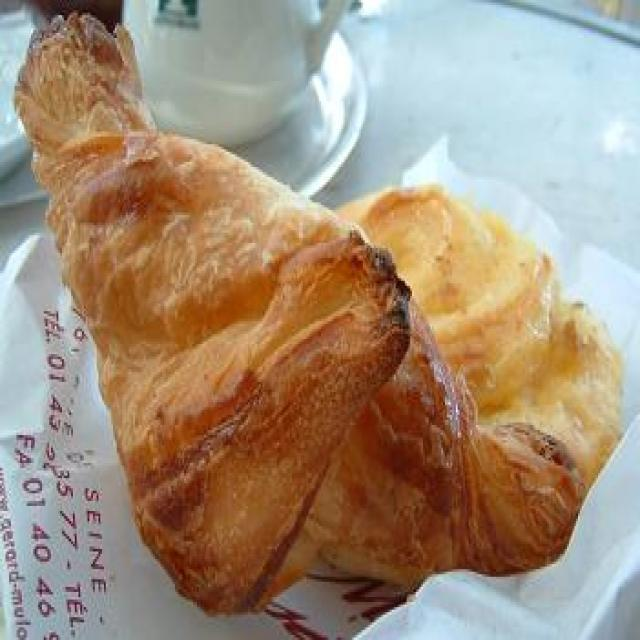Croissant: (0, 0, 585, 574)
